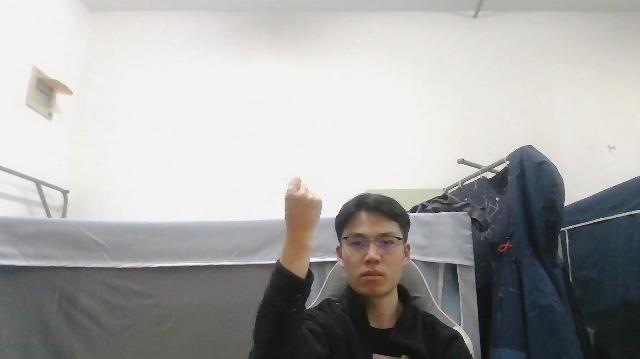ten: (282, 175, 323, 229)
